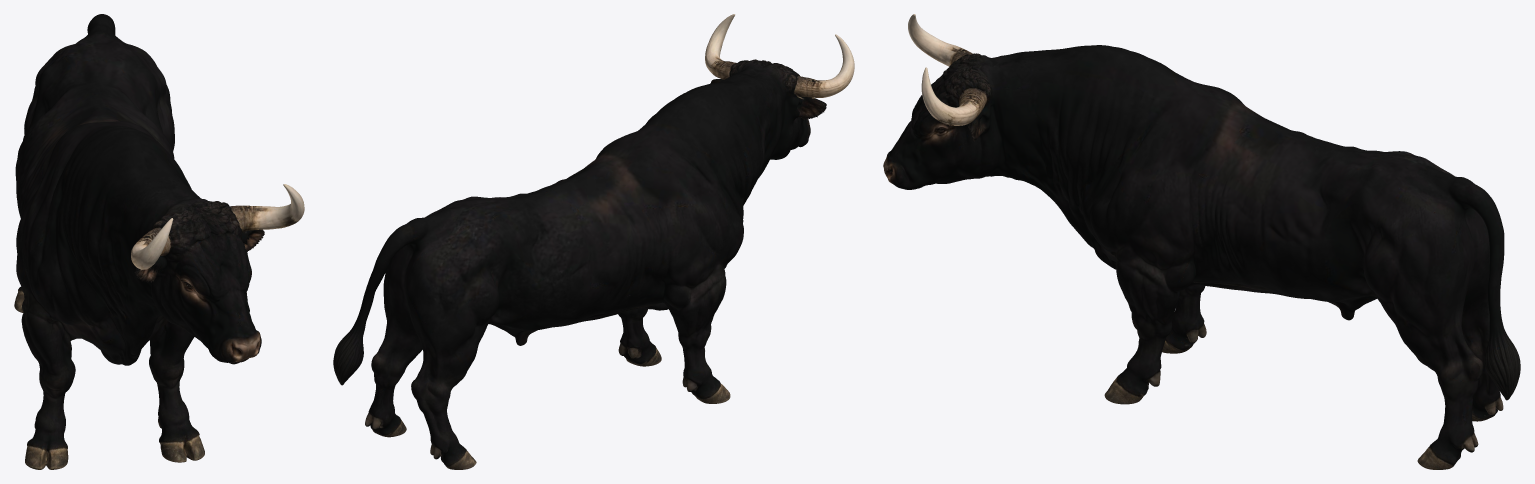
File: CC0_Bull_Grab3D.glb
3 views of the same model, side by side, from view 1: azimuth 30°, elevation 25°; view 2: azimuth 150°, elevation 25°; view 3: azimuth 270°, elevation 25° (orthographic). The views are drawn at different scales.
Visible parts, largest first — view 1: bull; view 2: bull; view 3: bull.
Part boxes in pixels (box(x1,y1,x2,y2)): bull: box(14, 14, 304, 469); bull: box(333, 14, 854, 469); bull: box(883, 14, 1520, 469).
Size of the model in its own units: 1.39 by 1.41 by 2.5.
Materials: 1 (1 with a texture image).
